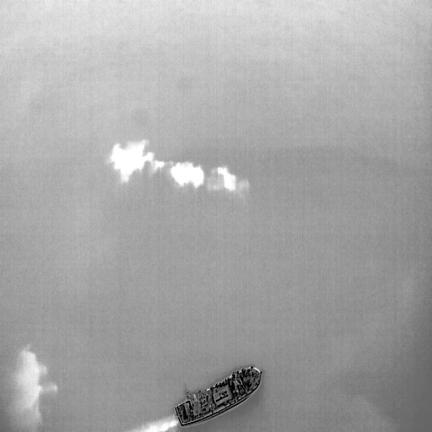flukeprints: (109, 140, 171, 181), (170, 162, 204, 186), (215, 167, 236, 191)
